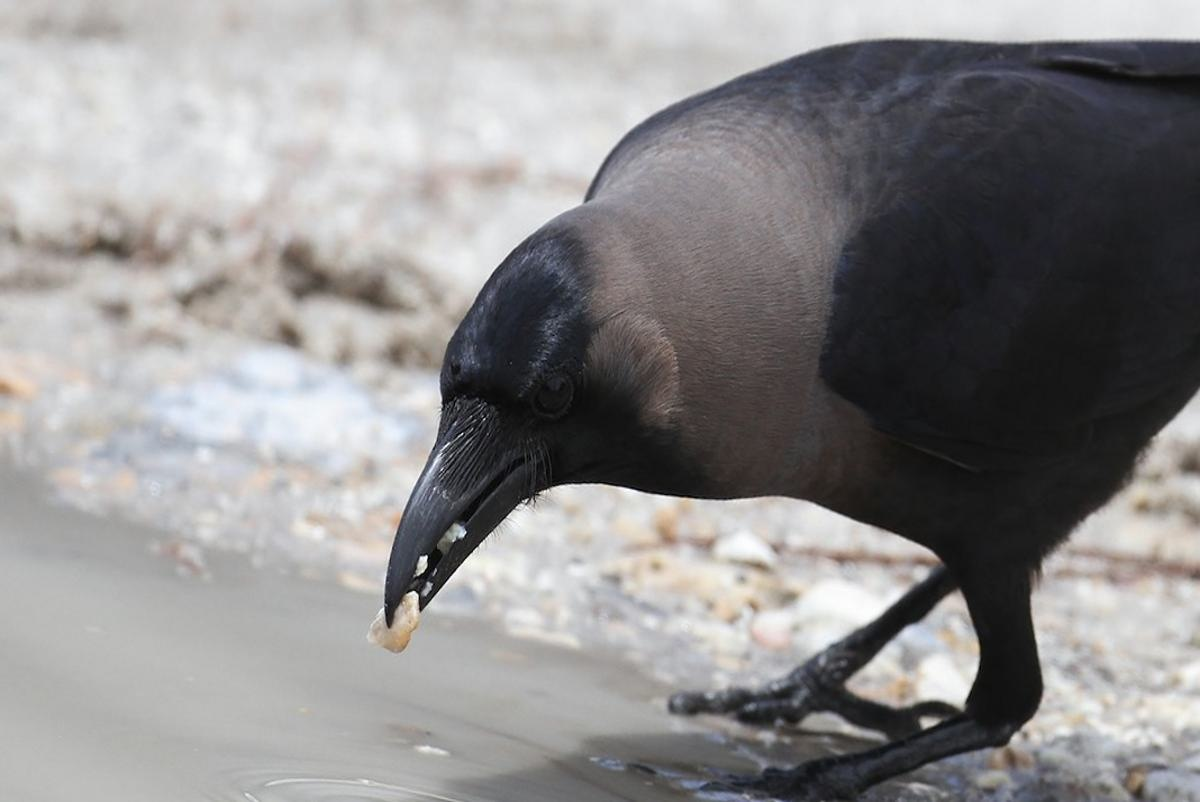crow: (330, 14, 1190, 741)
